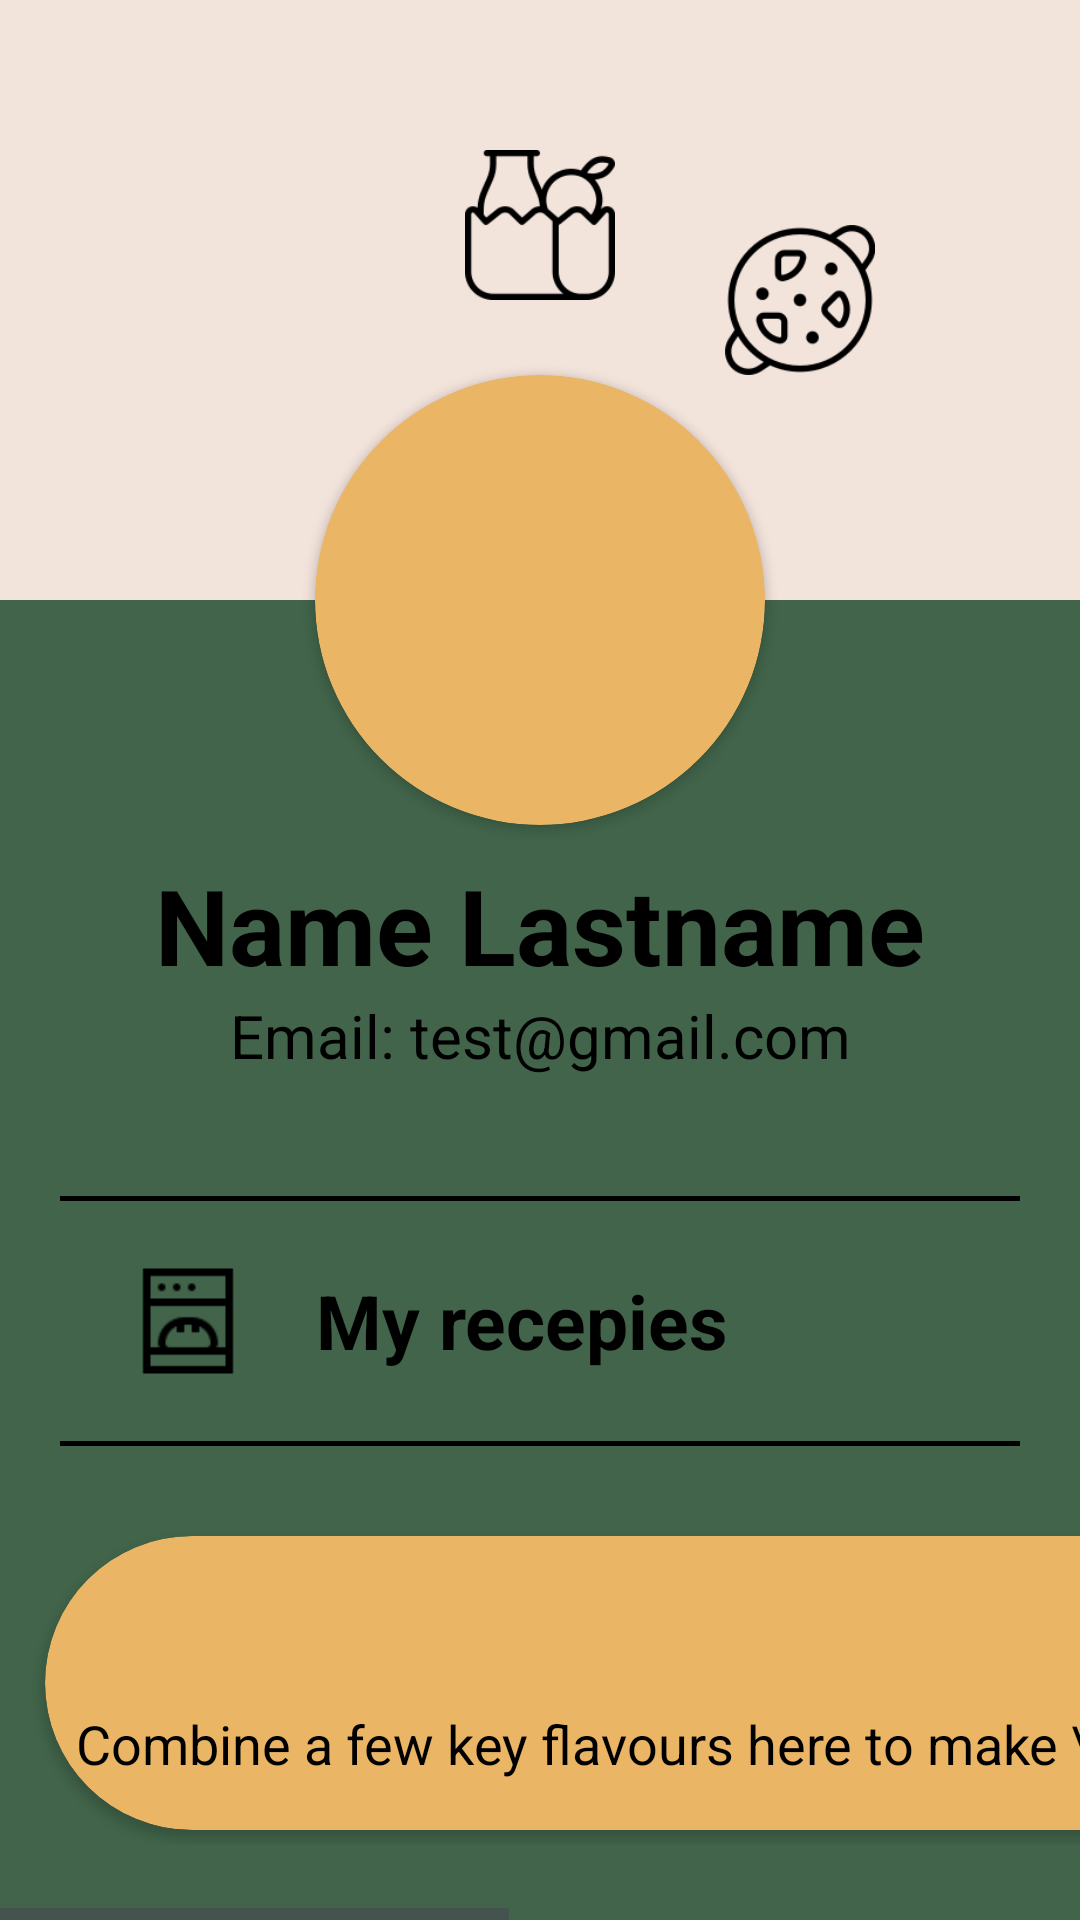

Where to tap for icons on this 1080 x 1920 app screen, as (x,y):
bake: (188,1321)
grocerybag: (540,225)
panfood: (800,300)
